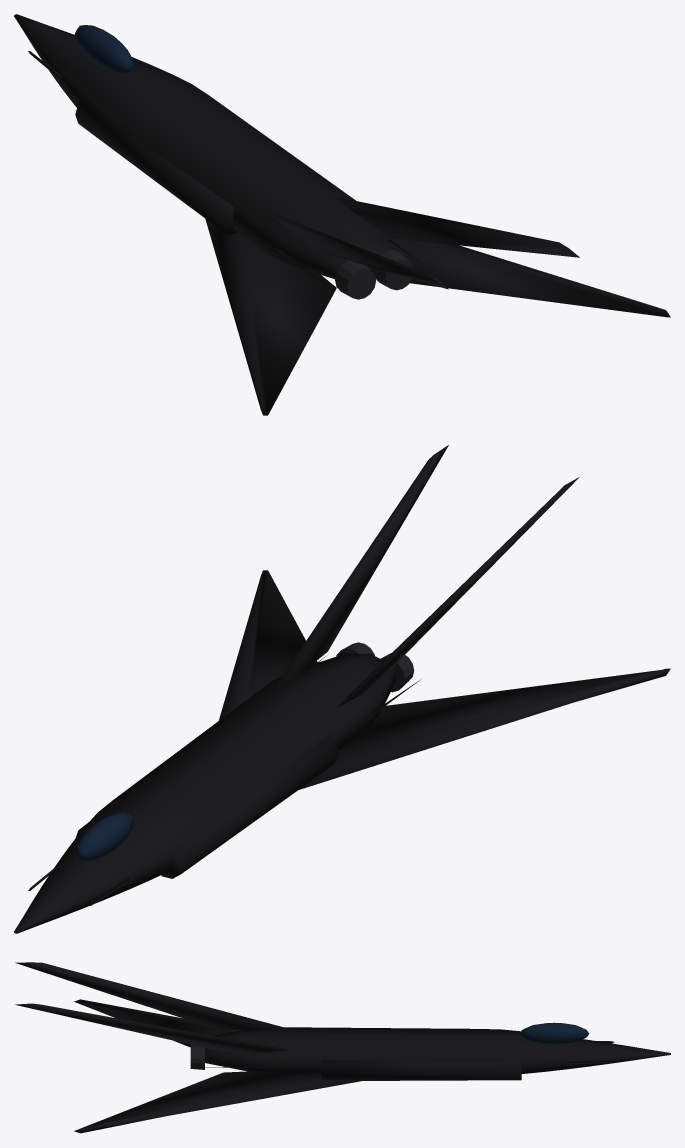
3 renders of one model, top to bottom at view 1: azimuth 30°, elevation 25°; view 2: azimuth 150°, elevation 25°; view 3: azimuth 270°, elevation 25°, orthographic. The views are drawn at different scales.
Parts seen in each view (by area): view 1: Body, Detail, Canopy; view 2: Body, Canopy, Detail; view 3: Body, Canopy, Detail.
Boxes of the visible parts, box(x1,y1,x2,y2) form: Body: box(14, 14, 670, 415); Detail: box(335, 250, 413, 299); Canopy: box(74, 25, 134, 73); Body: box(14, 445, 670, 933); Canopy: box(74, 812, 134, 861); Detail: box(336, 642, 414, 692); Body: box(15, 962, 670, 1133); Canopy: box(519, 1022, 589, 1044); Detail: box(190, 1034, 204, 1069).
Bounding box in the file's own units: 13.2 × 4.25 × 28.32.
